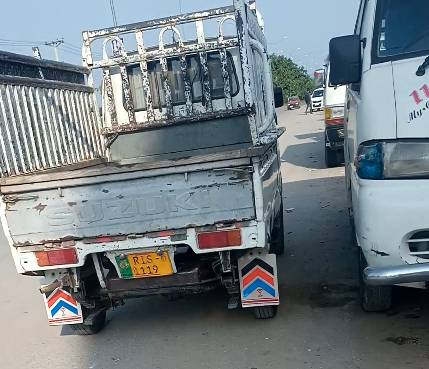number_plate: (115, 250, 179, 281)
